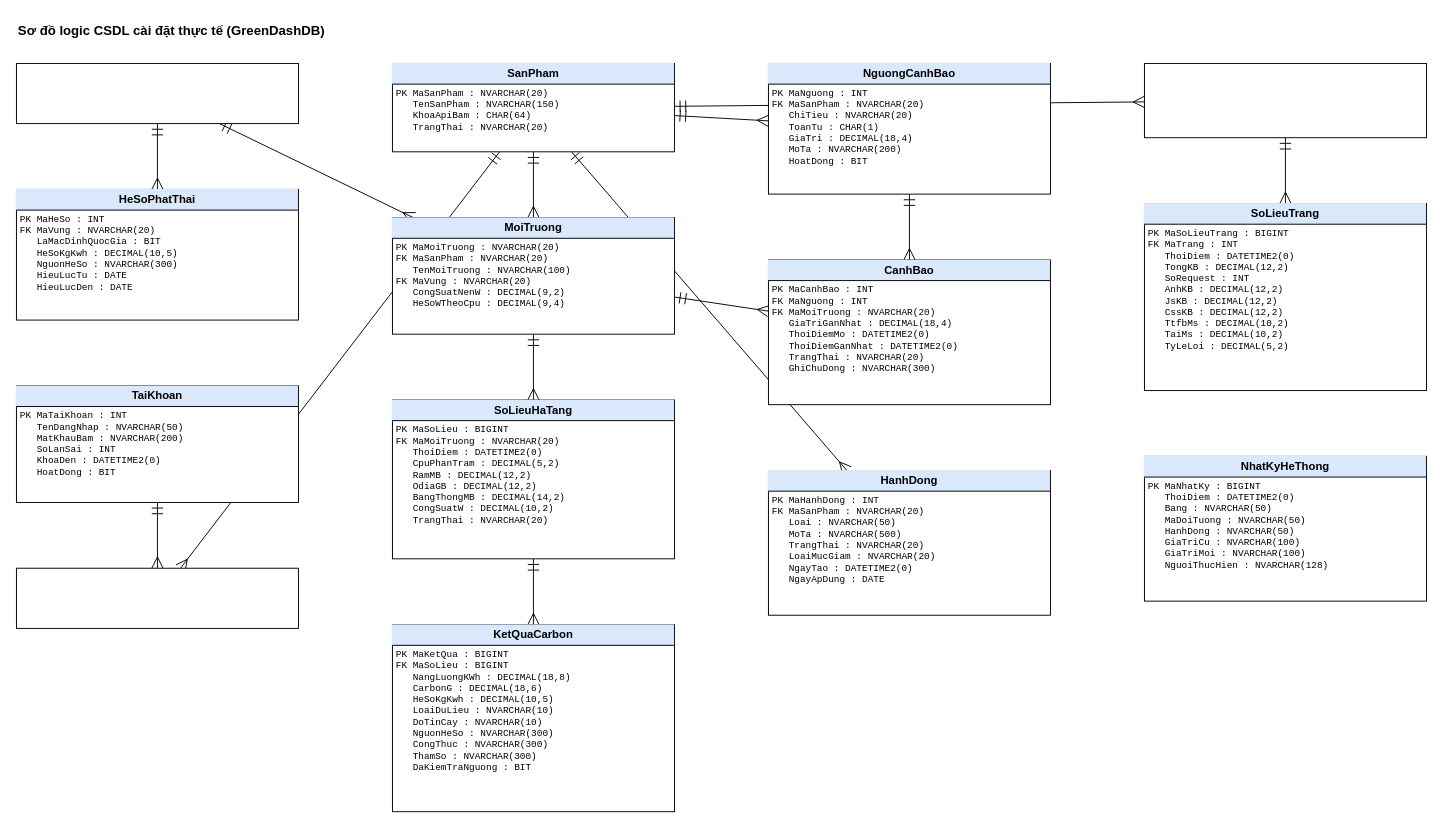
Image size: 1443x828. Some labels were removed from this diagram. The box of each missing label's shape, as (x1, y1, x2, y2) in pixels:
TaiKhoanSanPham PK,FK MaTaiKhoan : INT PK,FK MaSanPham : NVARCHAR(20): (16, 567, 298, 628)
Trang PK MaTrang : INT FK MaSanPham : NVARCHAR(20) Url : NVARCHAR(400): (1144, 63, 1426, 138)
VungLuoiDien PK MaVung : NVARCHAR(20) TenVung : NVARCHAR(100): (16, 63, 298, 124)
